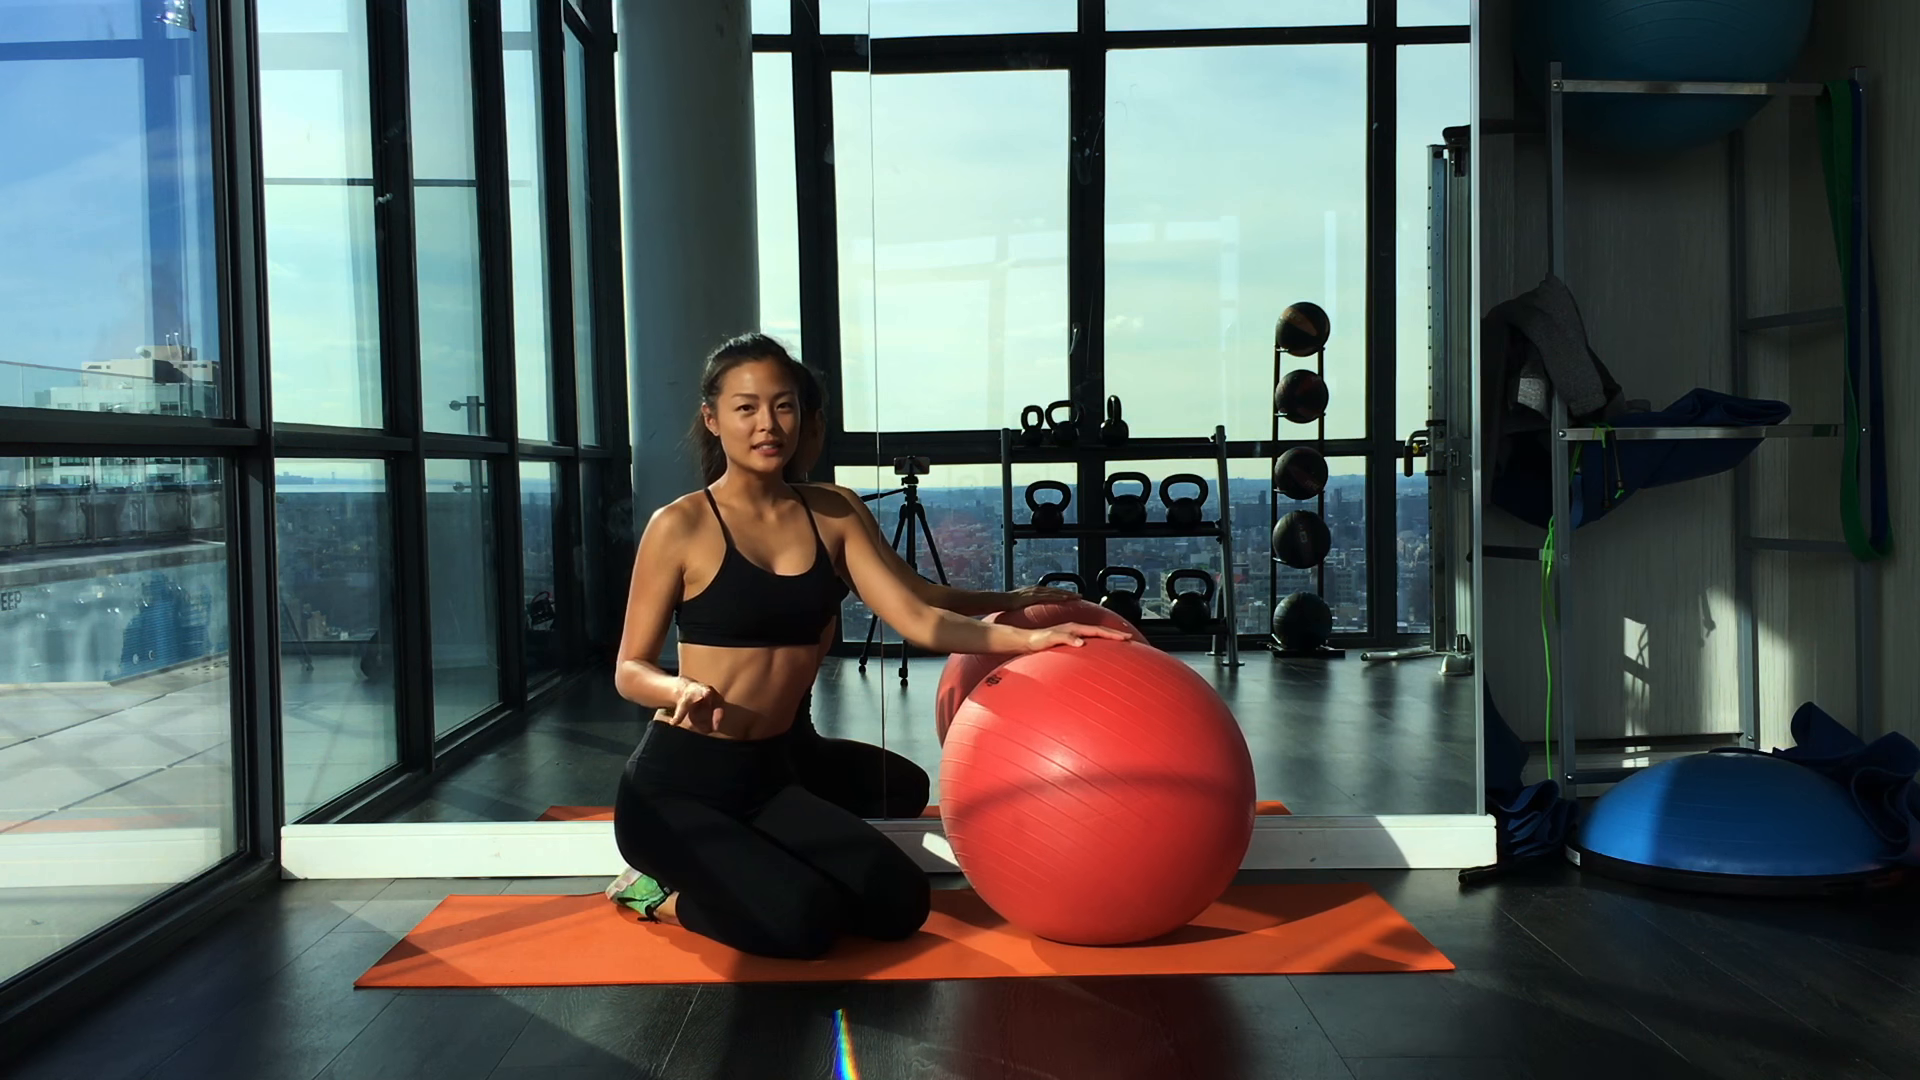yogaball: (927, 638, 1265, 951)
